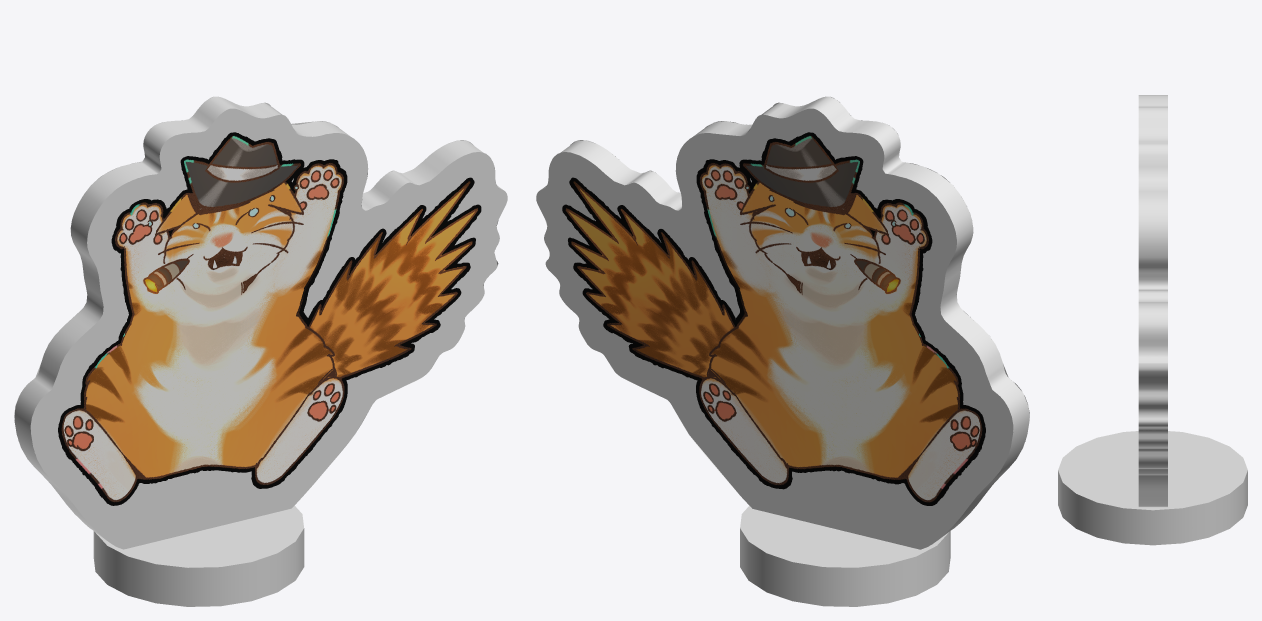
Rendered from cat_damage.fbx.
The picture shows the model from 3 angles, left to right: view 1: azimuth 30°, elevation 25°; view 2: azimuth 150°, elevation 25°; view 3: azimuth 270°, elevation 25°; orthographic projection. The views are drawn at different scales.
Parts seen in each view (by area): view 1: nurbsToPoly19; view 2: nurbsToPoly19; view 3: nurbsToPoly19.
Part boxes in pixels (x1,y1,x2,y2): nurbsToPoly19: [14, 96, 507, 606]; nurbsToPoly19: [536, 96, 1029, 606]; nurbsToPoly19: [1058, 95, 1247, 545].
Bounding box in the file's own units: 25.51 × 24.21 × 9.8.
